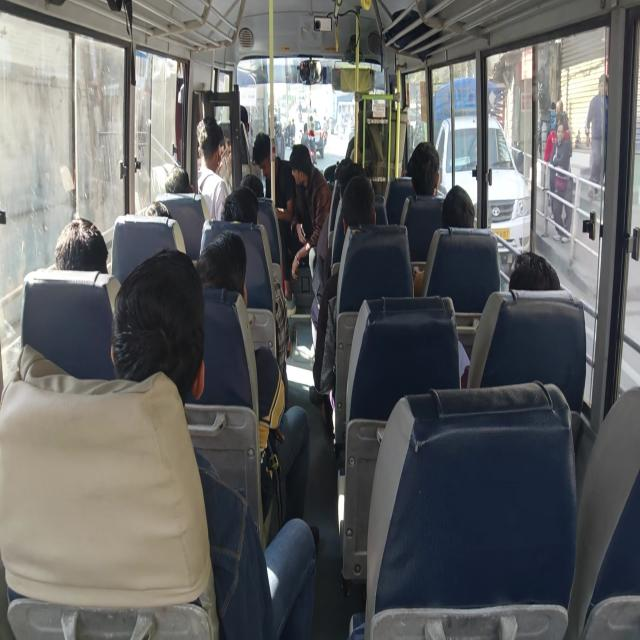person: (49, 215, 115, 279)
